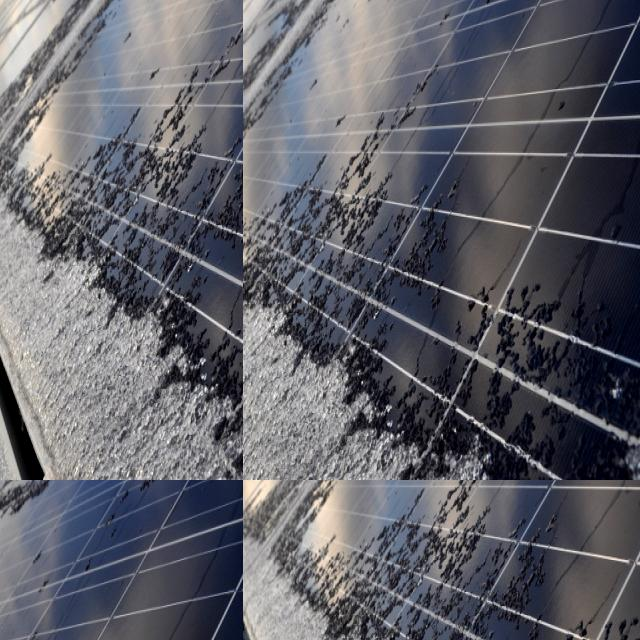bird: (154, 156, 206, 216), (82, 166, 135, 202), (0, 220, 34, 266), (142, 269, 182, 308), (111, 67, 143, 110), (223, 78, 243, 142), (172, 84, 197, 131), (0, 137, 29, 171), (0, 177, 25, 208), (106, 0, 133, 28), (155, 0, 178, 32), (0, 34, 11, 90), (97, 0, 130, 18), (0, 300, 9, 362), (0, 0, 23, 21), (200, 26, 213, 62), (0, 305, 9, 346), (0, 63, 9, 95), (100, 306, 112, 329), (0, 40, 7, 69), (0, 0, 7, 14)
dust: (374, 194, 498, 341), (351, 368, 467, 480), (243, 194, 335, 334), (541, 198, 640, 322), (243, 364, 334, 480), (303, 92, 406, 174), (437, 96, 528, 162), (243, 184, 279, 335), (574, 98, 640, 161), (243, 95, 285, 165), (243, 104, 266, 168)
panel: (358, 480, 452, 543), (441, 480, 551, 516), (260, 548, 301, 640), (279, 480, 340, 535), (243, 497, 272, 594)
